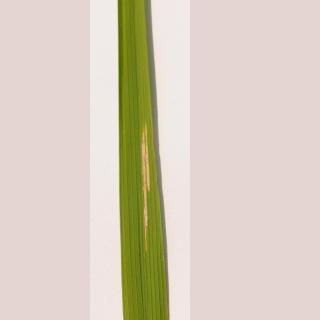Hawar-Daun: (126, 110, 162, 232)
